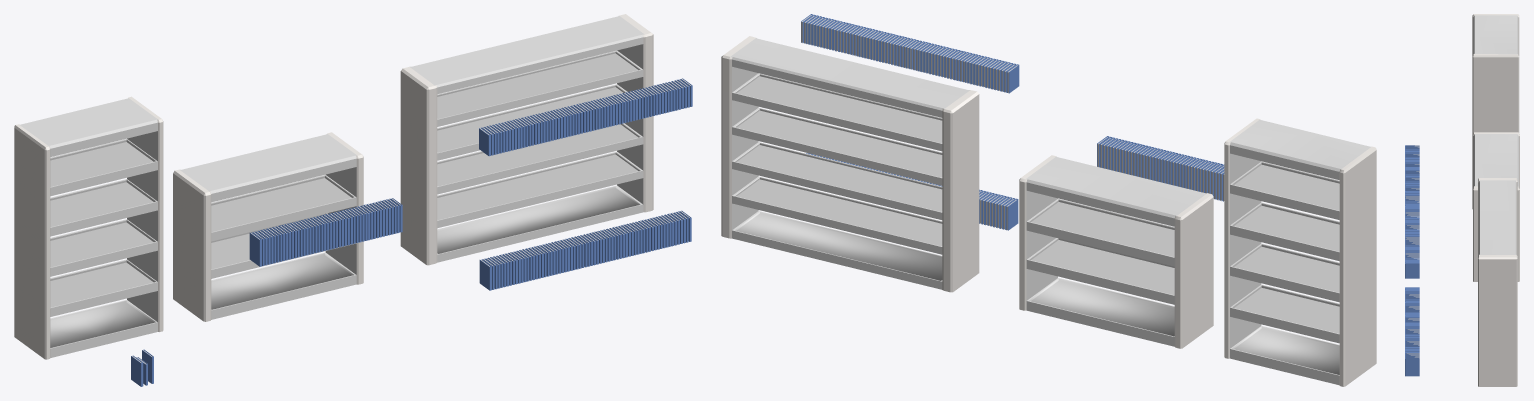
File: cabinet.fbx
The picture shows the model from 3 angles, left to right: view 1: azimuth 30°, elevation 25°; view 2: azimuth 150°, elevation 25°; view 3: azimuth 270°, elevation 25°; orthographic projection. The views are drawn at different scales.
Visible parts, largest first — view 1: cabinet_b, cabinet1, cabinet_a; view 2: cabinet_b, cabinet1, cabinet_a; view 3: cabinet_b, cabinet1, cabinet_a, book_03.103, book_02.070.
Part boxes in pixels (bbox=[...]): cabinet_b: bbox=[400, 14, 653, 265]; cabinet1: bbox=[14, 96, 163, 359]; cabinet_a: bbox=[173, 132, 363, 321]; cabinet_b: bbox=[721, 36, 979, 292]; cabinet1: bbox=[1224, 118, 1376, 386]; cabinet_a: bbox=[1019, 155, 1213, 348]; cabinet_b: bbox=[1478, 178, 1517, 386]; cabinet1: bbox=[1472, 14, 1519, 209]; cabinet_a: bbox=[1473, 132, 1519, 281]; book_03.103: bbox=[1405, 358, 1419, 376]; book_02.070: bbox=[1405, 262, 1419, 278].
Bounding box in the file's own units: 2383 × 807 × 532.
